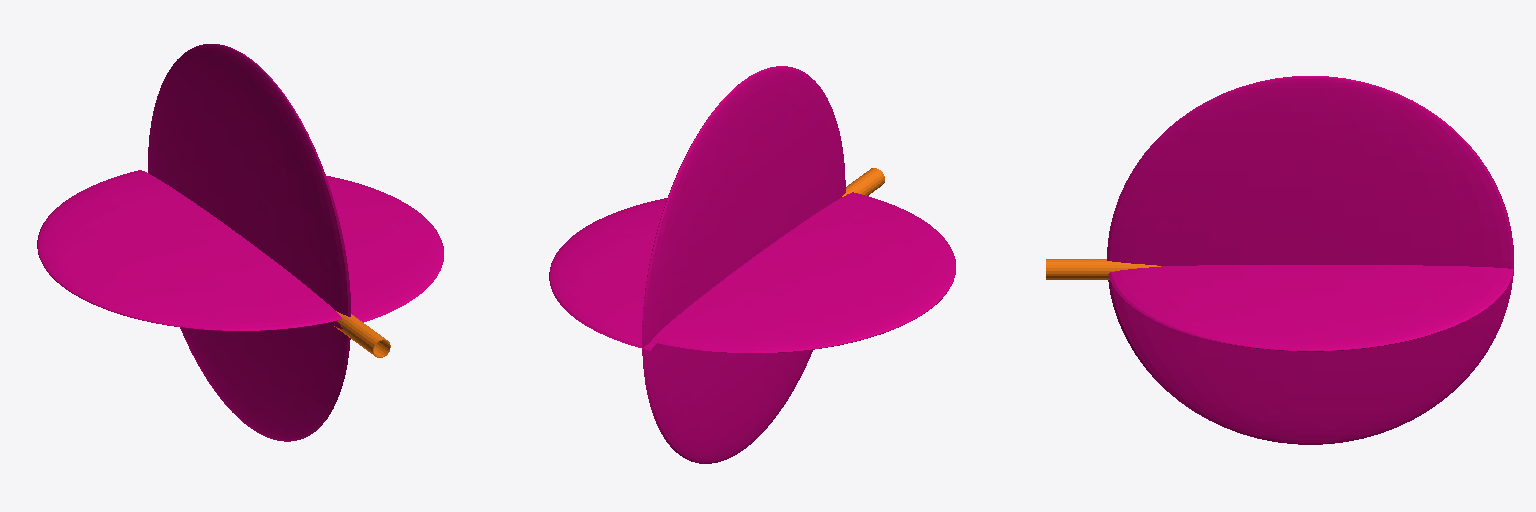
File: tinker.obj
3 renders of one model, left to right at view 1: azimuth 30°, elevation 25°; view 2: azimuth 150°, elevation 25°; view 3: azimuth 270°, elevation 25°, orthographic.
Visible parts, largest first — view 1: obj_0; view 2: obj_0; view 3: obj_0.
Boxes of the visible parts, <box> form: obj_0: <box>37,44,443,441</box>; obj_0: <box>549,66,955,463</box>; obj_0: <box>1046,76,1513,444</box>.
Bounding box in the file's own units: 20 × 20 × 23.